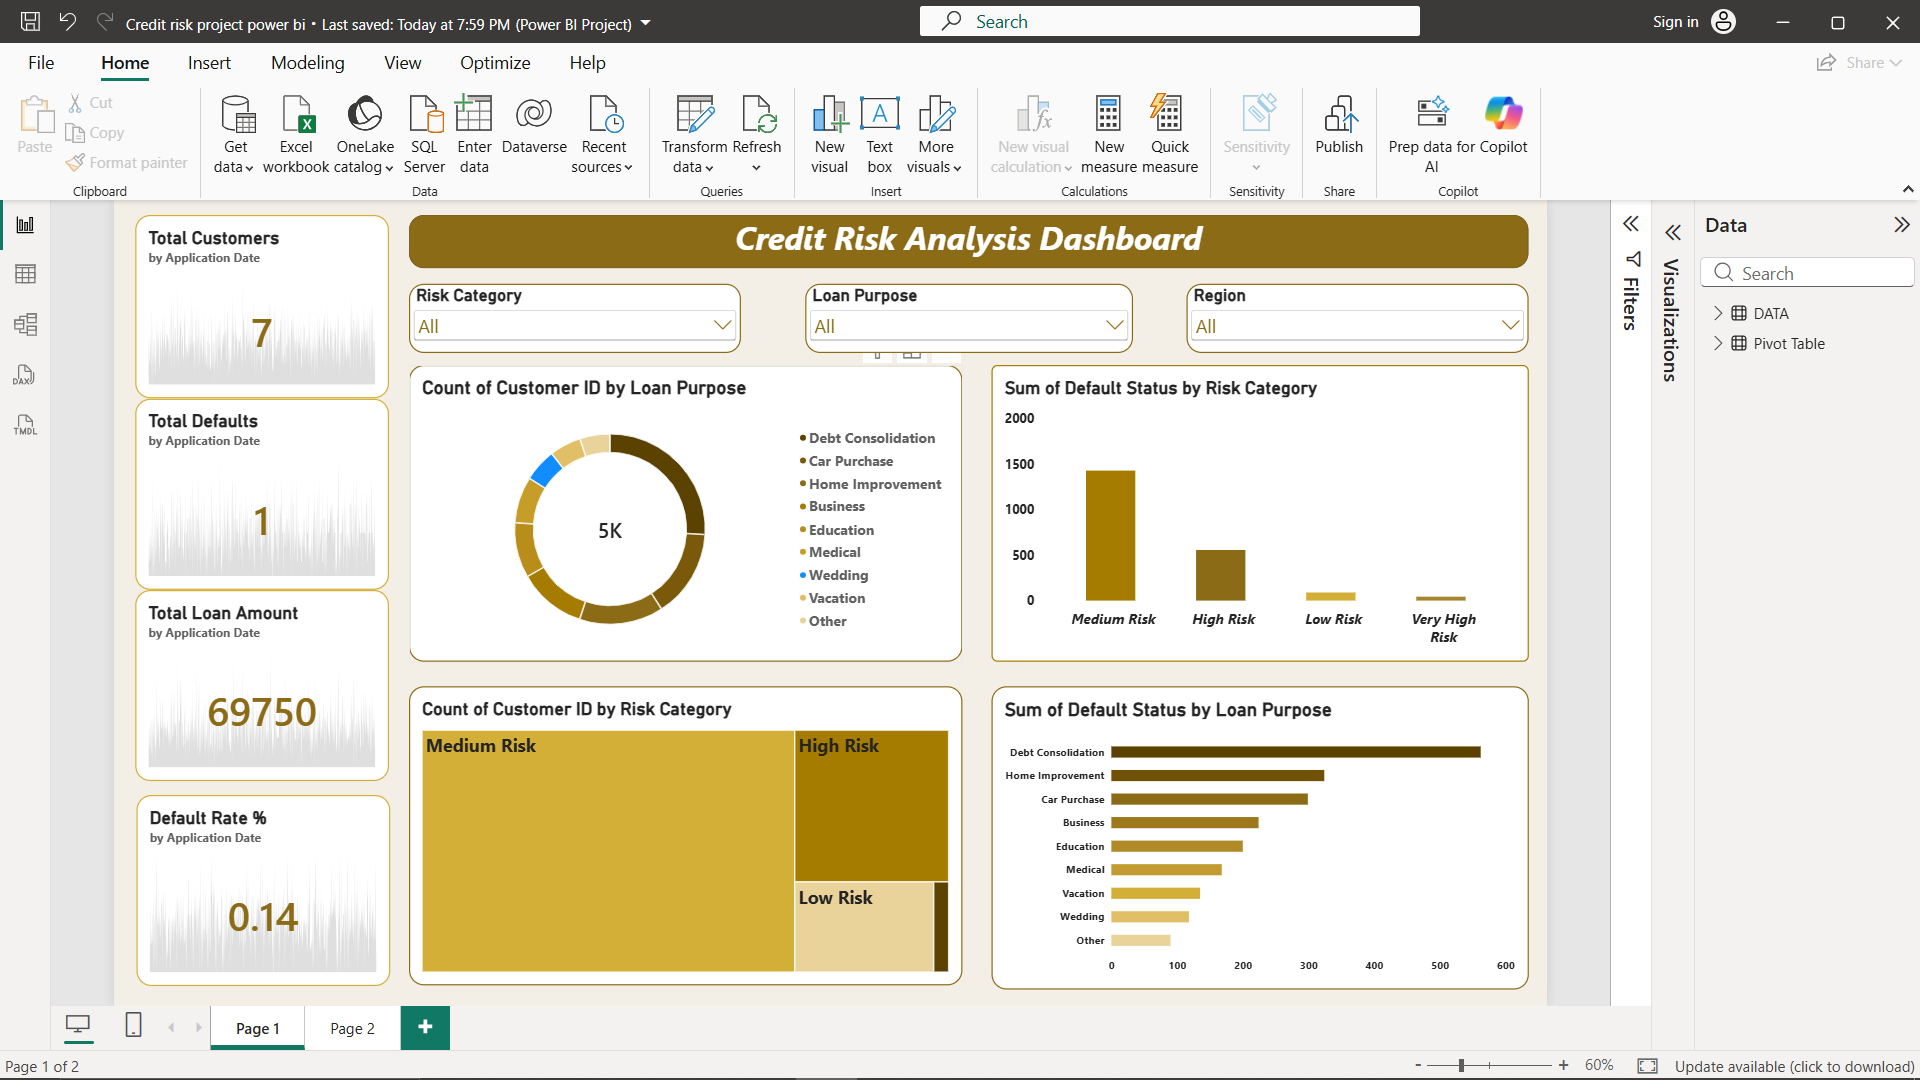

The dashboard page shown, as its layout file describes it:
{"tool":"powerbi","page":{"name":"Page 1","canvas":[1920,1080],"ordinal":0},"visuals":[{"type":"kpi","fields":{"Indicator":["DATA.Total Customers"],"TrendLine":["DATA.Application Date"]},"box":[27.9,20.9,340.1,245.9],"z":0},{"type":"kpi","fields":{"Indicator":["DATA.Total Defaults"],"TrendLine":["DATA.Application Date"]},"box":[27.9,266.9,340.1,256.4],"z":1000},{"type":"kpi","fields":{"Indicator":["DATA.Total Loan Amount"],"TrendLine":["DATA.Application Date"]},"box":[27.9,523.3,340.1,256.4],"z":2000},{"type":"kpi","fields":{"Indicator":["DATA.Default Rate %"],"TrendLine":["DATA.Application Date"]},"box":[29.7,797.1,340.1,256.4],"z":3000},{"type":"donutChart","fields":{"Category":["DATA.Loan Purpose"],"Y":["CountNonNull(DATA.Customer ID)"]},"box":[395.9,221.5,741.3,397.7],"z":4000},{"type":"columnChart","fields":{"Category":["DATA.Risk Category"],"Y":["Sum(DATA.Default Status)"]},"box":[1175.6,221.5,720.4,397.7],"z":5000},{"type":"barChart","fields":{"Category":["DATA.Loan Purpose"],"Y":["Sum(DATA.Default Status)"]},"box":[1175.6,652.3,720.4,406.4],"z":6000},{"type":"slicer","fields":{"Values":["DATA.Region"]},"box":[1437.2,111.6,458.7,92.4],"z":7000},{"type":"slicer","fields":{"Values":["DATA.Loan Purpose"]},"box":[926.2,111.6,439.5,92.4],"z":8000},{"type":"slicer","fields":{"Values":["DATA.Risk Category"]},"box":[395.9,111.6,444.8,92.4],"z":9000},{"type":"treemap","fields":{"Group":["DATA.Risk Category"],"Values":["CountNonNull(DATA.Customer ID)"]},"box":[395.9,652.3,741.3,401.2],"z":10000},{"type":"textbox","box":[395.9,20.9,1500,71.5],"z":10001}]}

Visuals, with their boxes on the page's 1920x1080 design canvas (x1, y1, x2, y2). These are canvas units, not pixel positions in the 1920x1080 screenshot, which may show the page scaled, cropped or inside an application window:
kpi - DATA.Total Customers x DATA.Application Date: l=28, t=21, r=368, b=267
kpi - DATA.Total Defaults x DATA.Application Date: l=28, t=267, r=368, b=523
kpi - DATA.Total Loan Amount x DATA.Application Date: l=28, t=523, r=368, b=780
kpi - DATA.Default Rate % x DATA.Application Date: l=30, t=797, r=370, b=1054
donutChart - DATA.Loan Purpose x CountNonNull(DATA.Customer ID): l=396, t=222, r=1137, b=619
columnChart - DATA.Risk Category x Sum(DATA.Default Status): l=1176, t=222, r=1896, b=619
barChart - DATA.Loan Purpose x Sum(DATA.Default Status): l=1176, t=652, r=1896, b=1059
slicer - DATA.Region: l=1437, t=112, r=1896, b=204
slicer - DATA.Loan Purpose: l=926, t=112, r=1366, b=204
slicer - DATA.Risk Category: l=396, t=112, r=841, b=204
treemap - DATA.Risk Category x CountNonNull(DATA.Customer ID): l=396, t=652, r=1137, b=1054
textbox: l=396, t=21, r=1896, b=92
